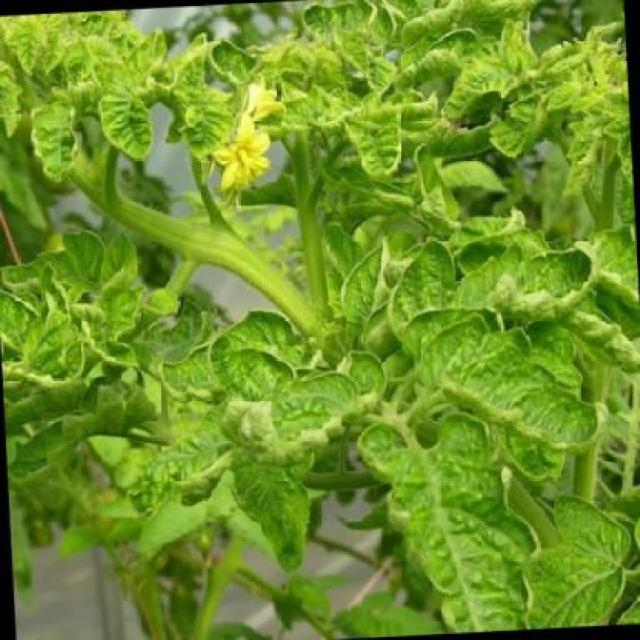Healthy Leaf: (358, 402, 540, 636), (419, 319, 603, 463), (148, 289, 302, 437), (260, 354, 392, 468), (372, 232, 493, 354), (322, 240, 408, 338), (432, 47, 540, 118), (33, 89, 98, 194), (89, 81, 163, 168), (331, 106, 409, 182)
